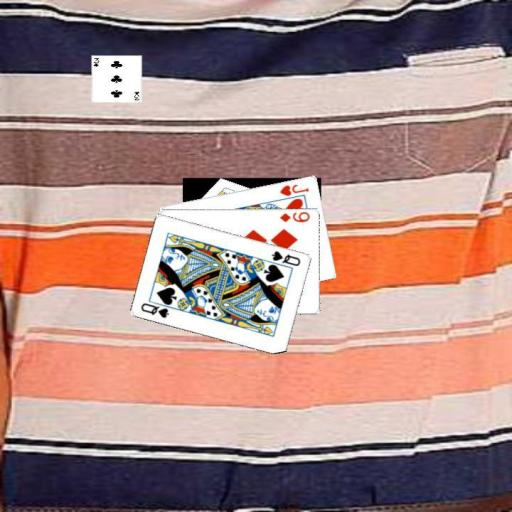9D: (278, 209, 312, 223)
JH: (277, 181, 310, 197)
QS: (269, 248, 302, 268), (138, 300, 171, 320)
